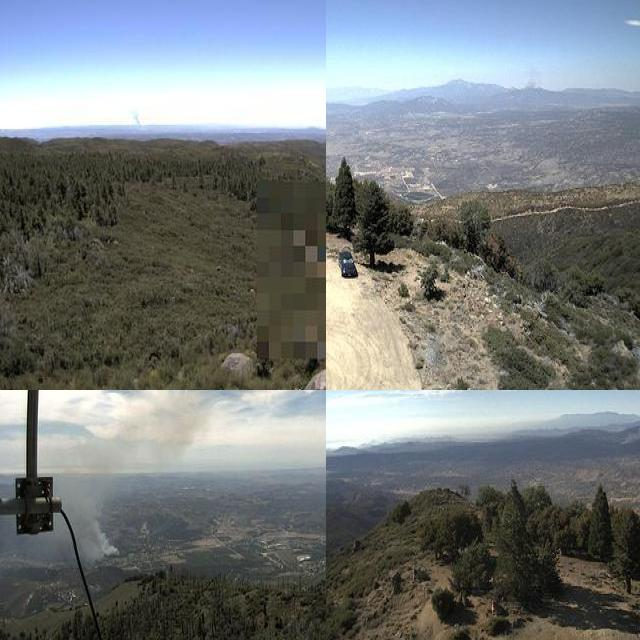smoke: (53, 390, 203, 567), (515, 68, 544, 108), (127, 104, 146, 137)
